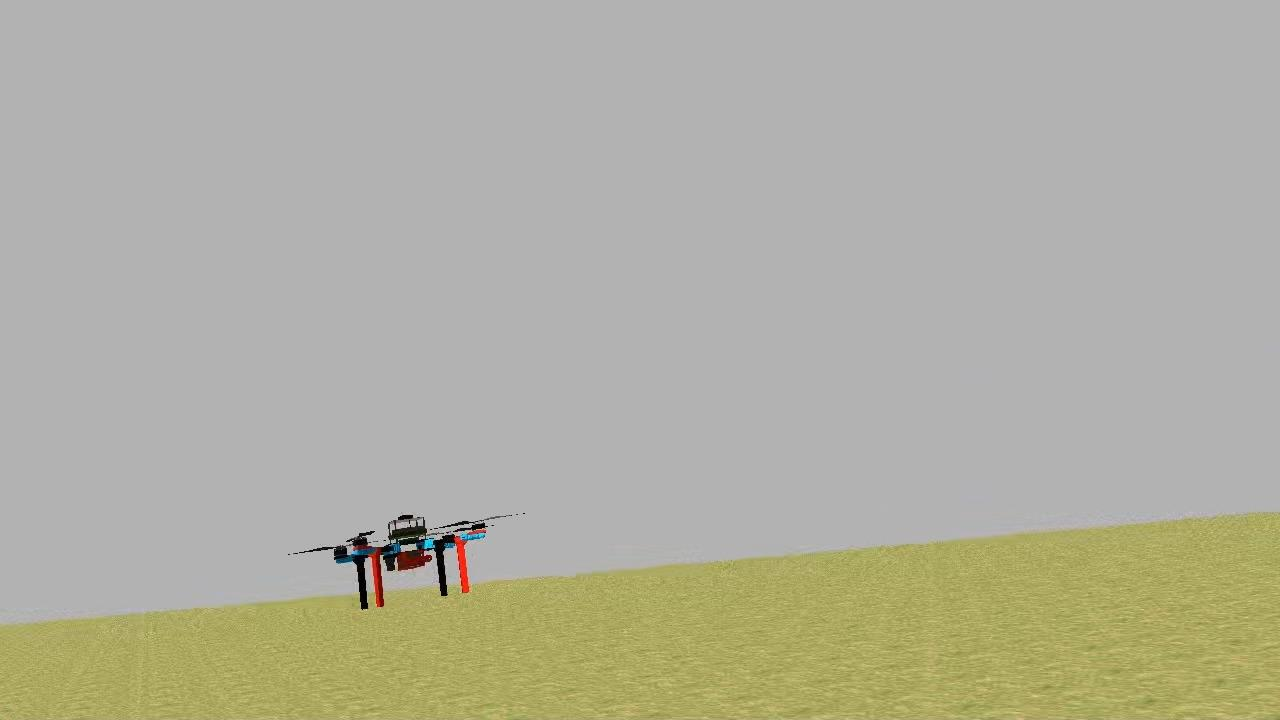UAV: (329, 506, 494, 616)
